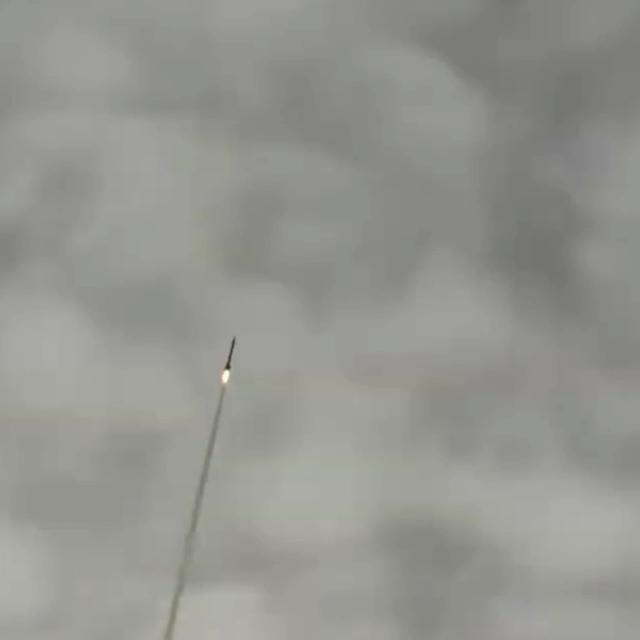smoke_trail_with_rocket: (161, 337, 236, 640)
